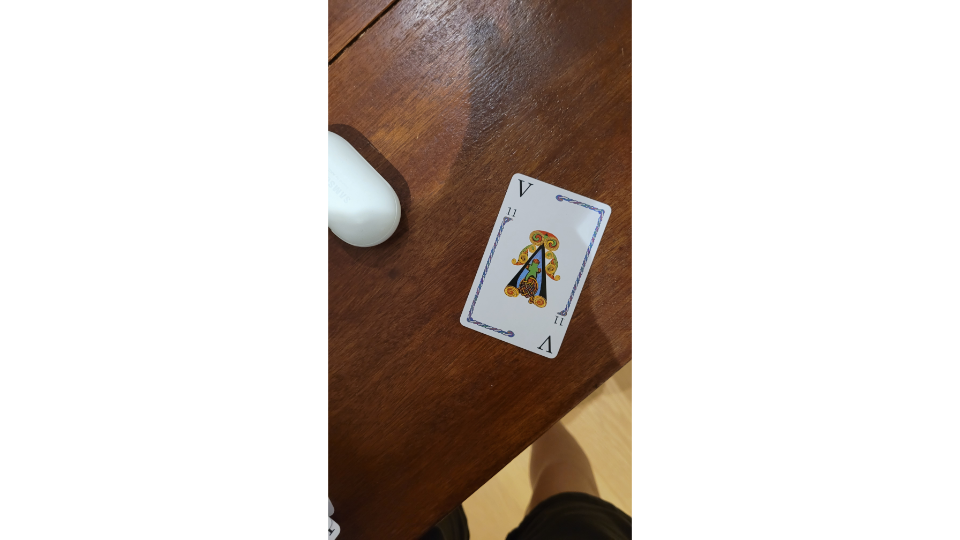V: (457, 170, 614, 360)
